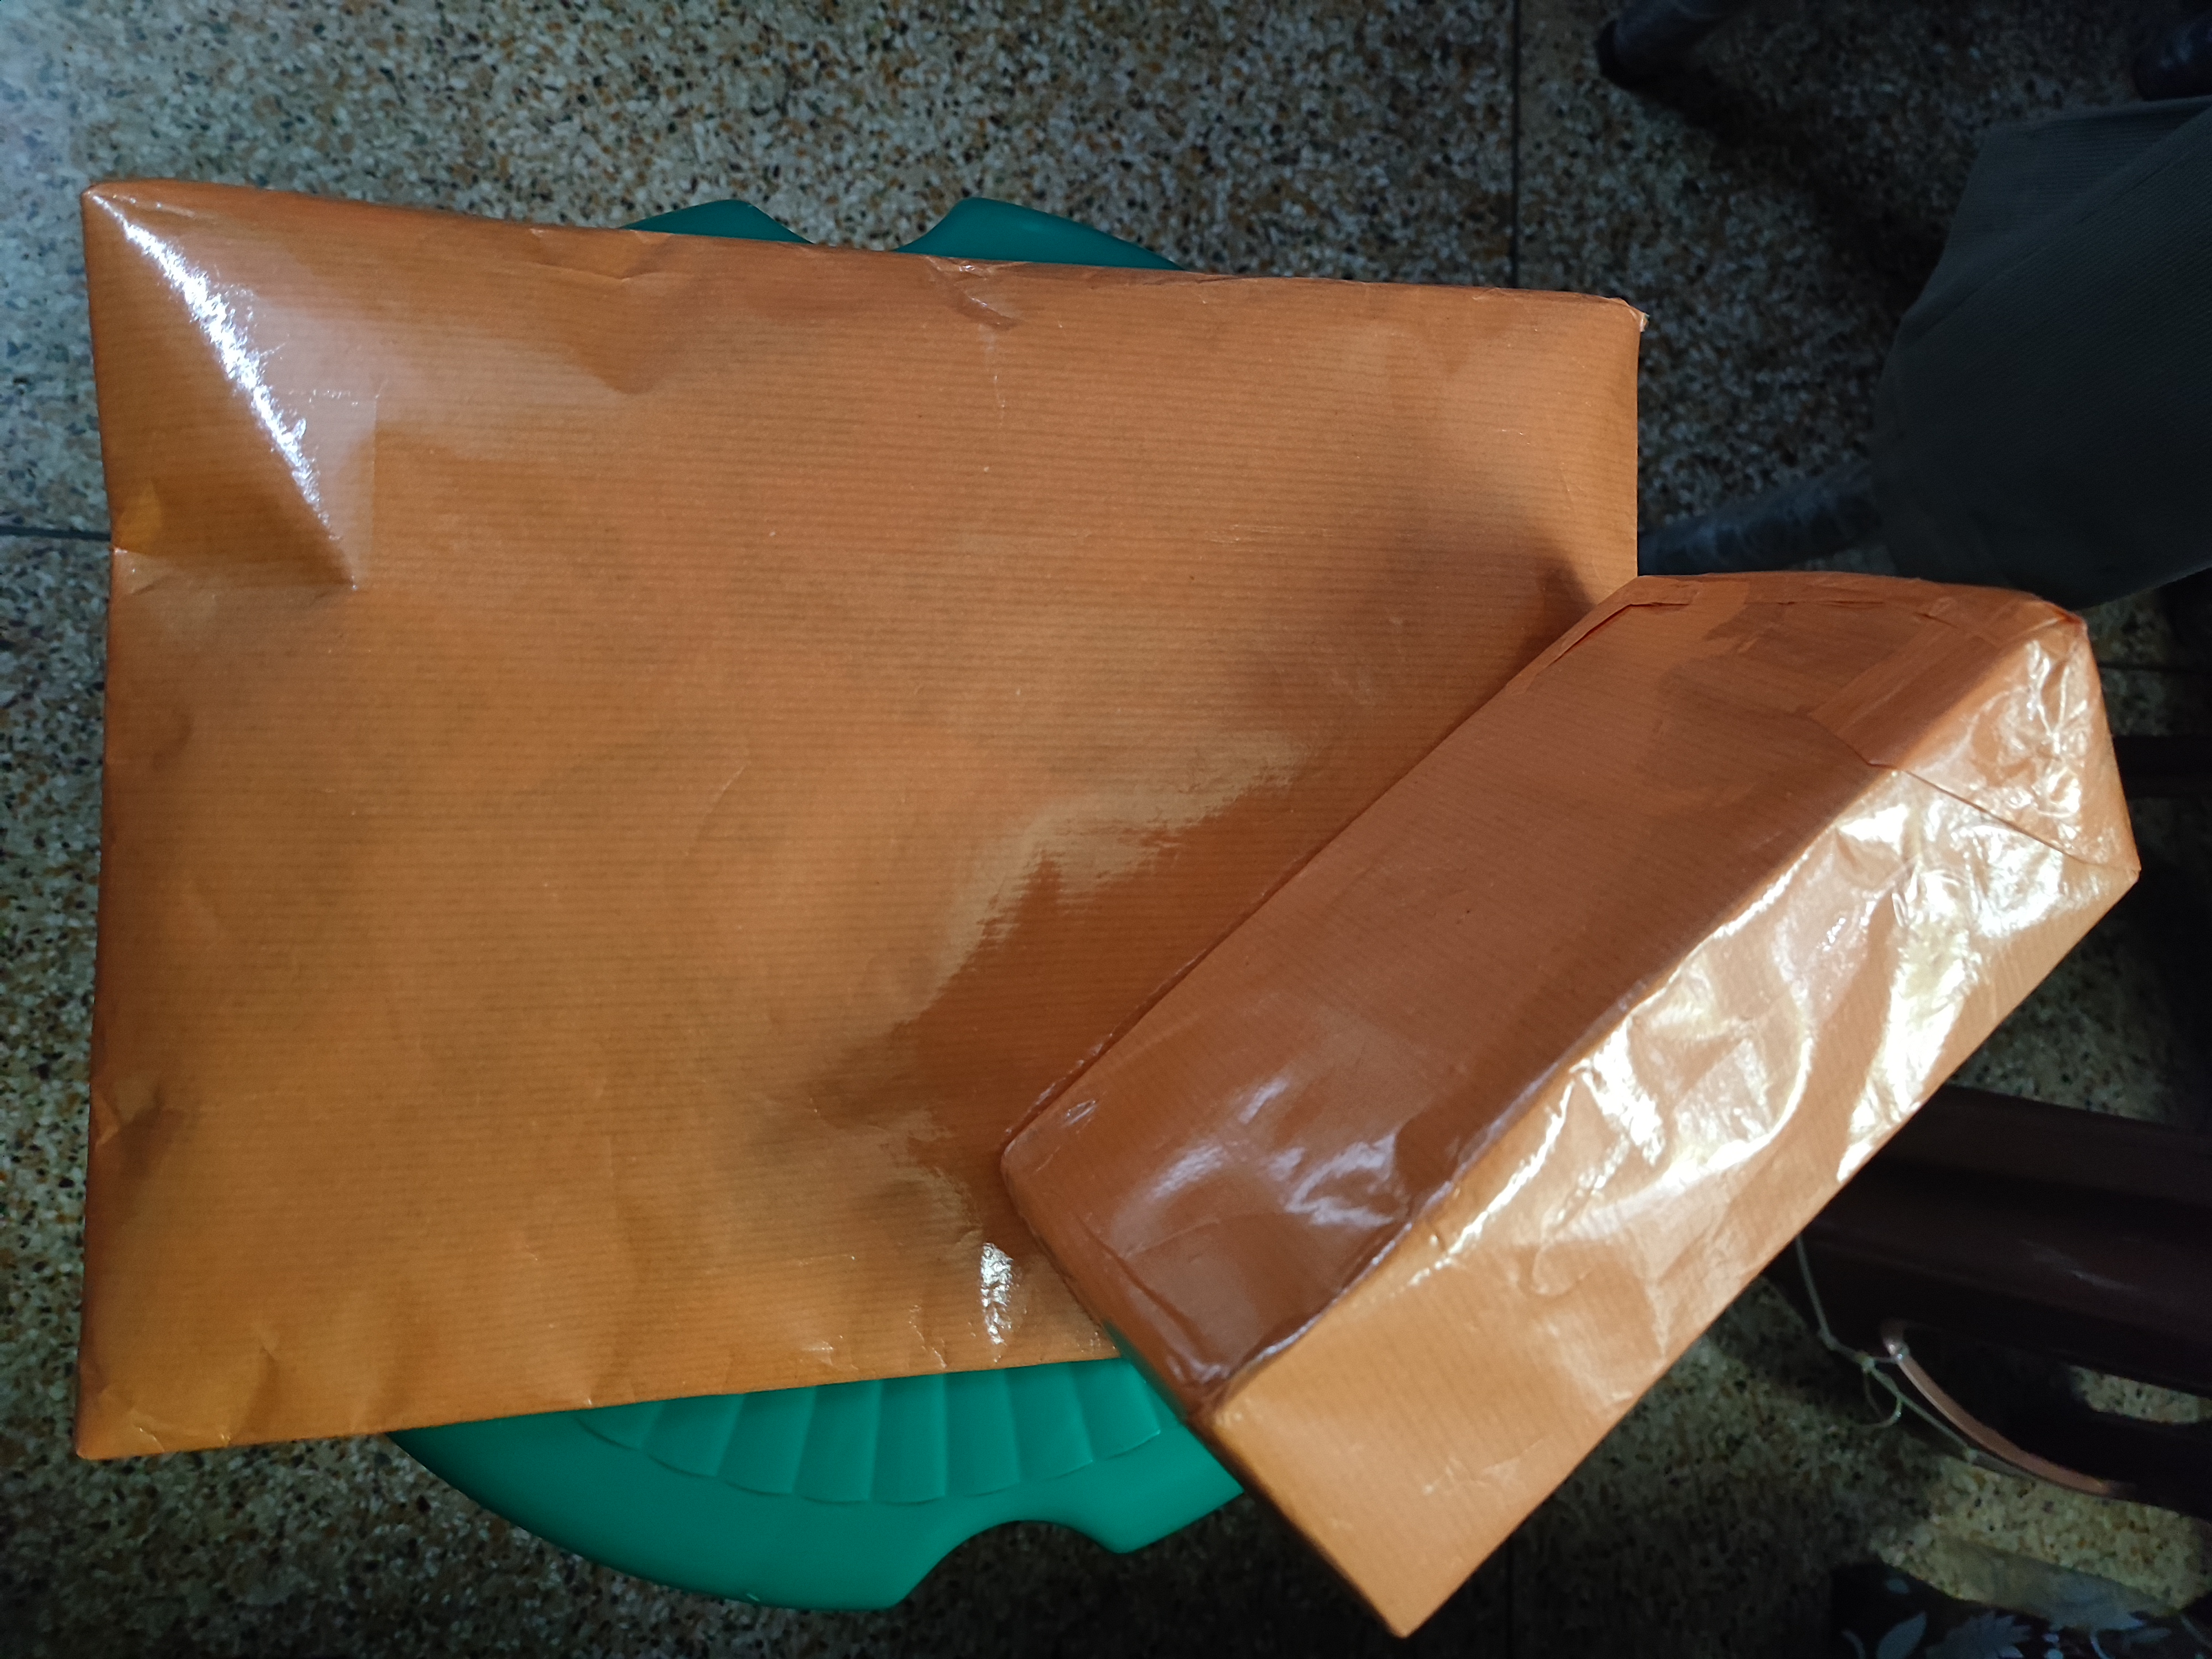Box: (66, 108, 1651, 1485), (1001, 512, 2085, 1570)
